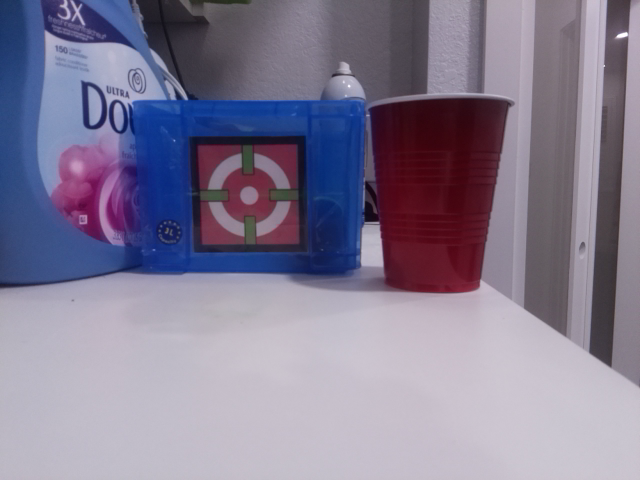drop-bin: (188, 135, 309, 253)
